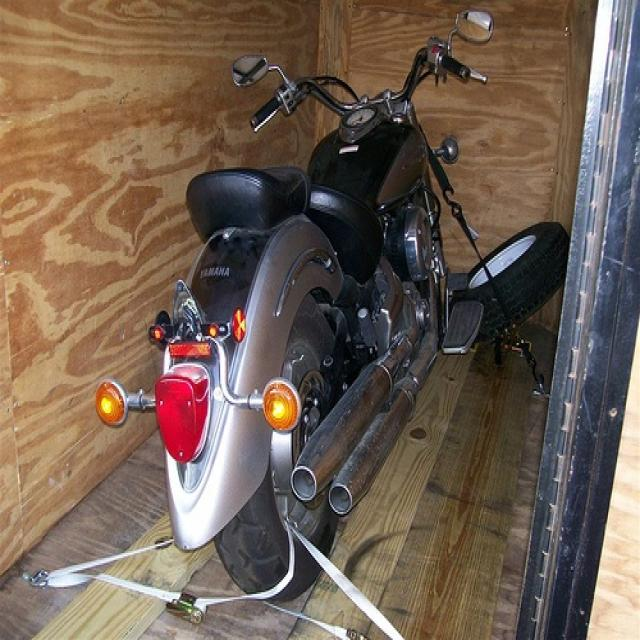motorbike: (95, 10, 494, 601)
